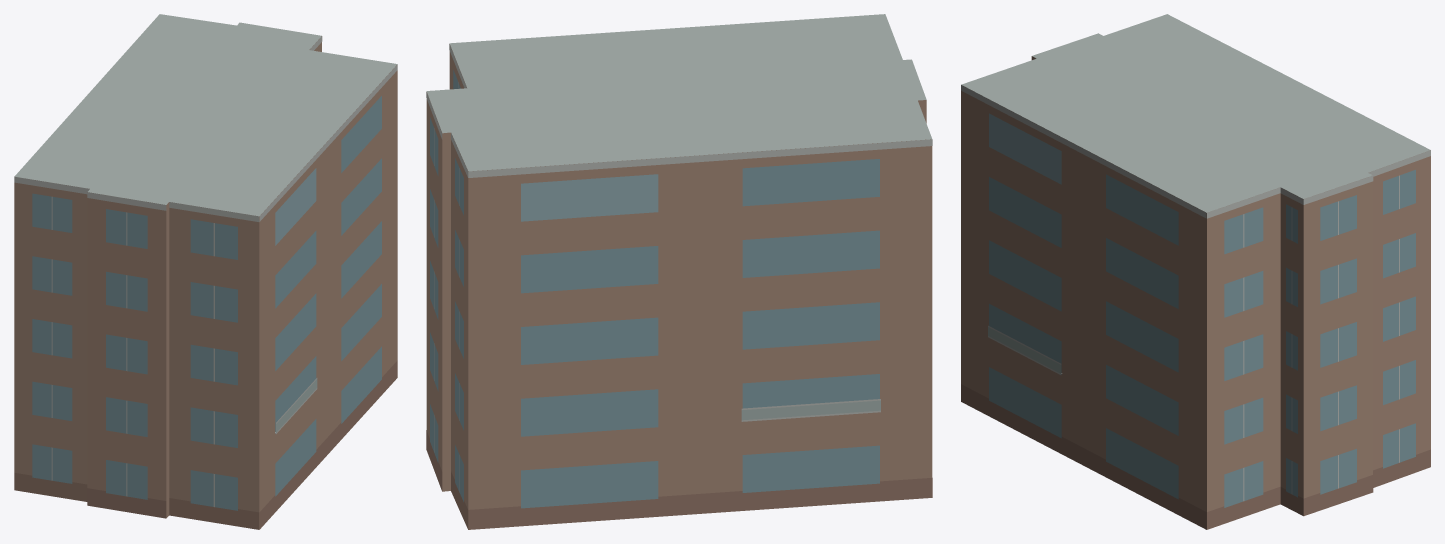
Rendered from survey-upis-33043367.glb.
3 views of the same model, side by side, from view 1: azimuth 30°, elevation 25°; view 2: azimuth 150°, elevation 25°; view 3: azimuth 270°, elevation 25° (orthographic). The views are drawn at different scales.
Visible parts, largest first — view 1: survey-upis-33043367.tmp; view 2: survey-upis-33043367.tmp; view 3: survey-upis-33043367.tmp.
Part boxes in pixels (box(x1,y1,x2,y2)): survey-upis-33043367.tmp: box(14, 14, 397, 529); survey-upis-33043367.tmp: box(426, 14, 932, 529); survey-upis-33043367.tmp: box(961, 14, 1430, 529).
Bounding box in the file's own units: 17.49 × 13 × 17.46.
